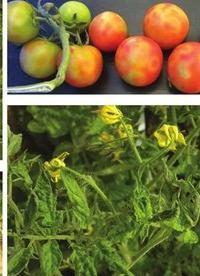Tomato leaf mosaic virus: (63, 174, 89, 230), (35, 171, 56, 231), (8, 240, 33, 276), (69, 248, 99, 276), (40, 238, 62, 276)
